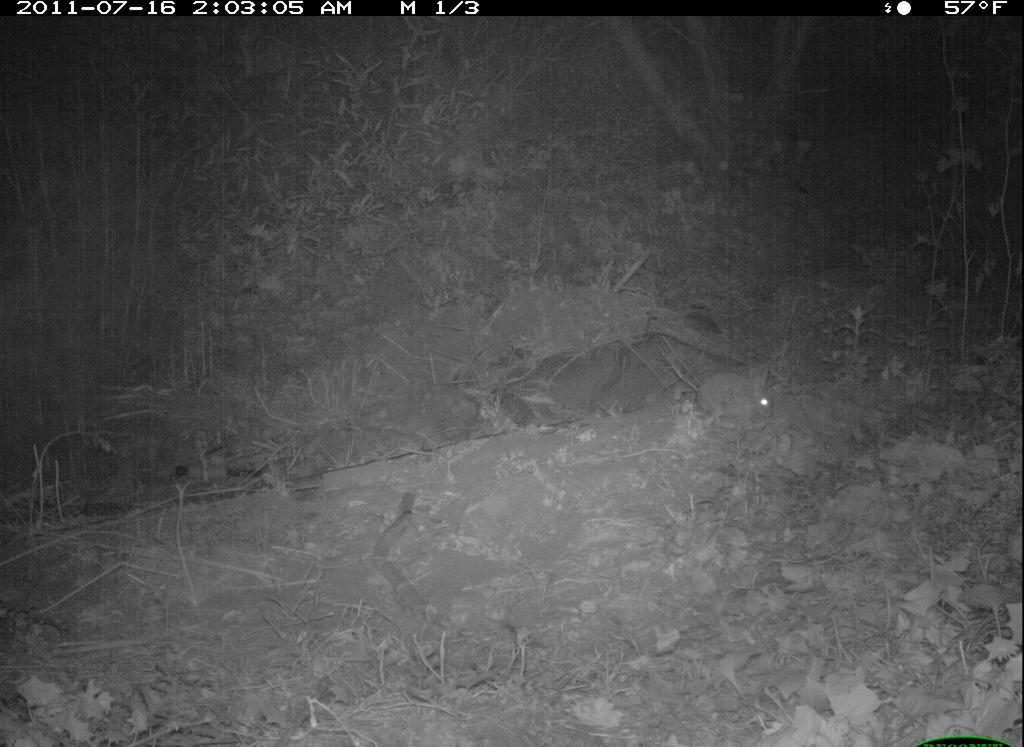rabbit: (661, 342, 788, 450)
